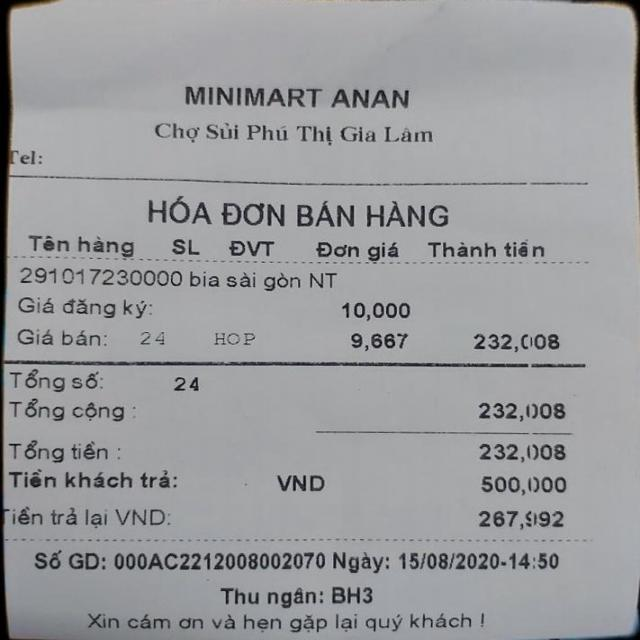Date: (400, 548, 501, 576)
Store_Name: (141, 76, 440, 117)
Total_Amount: (6, 394, 582, 431)
